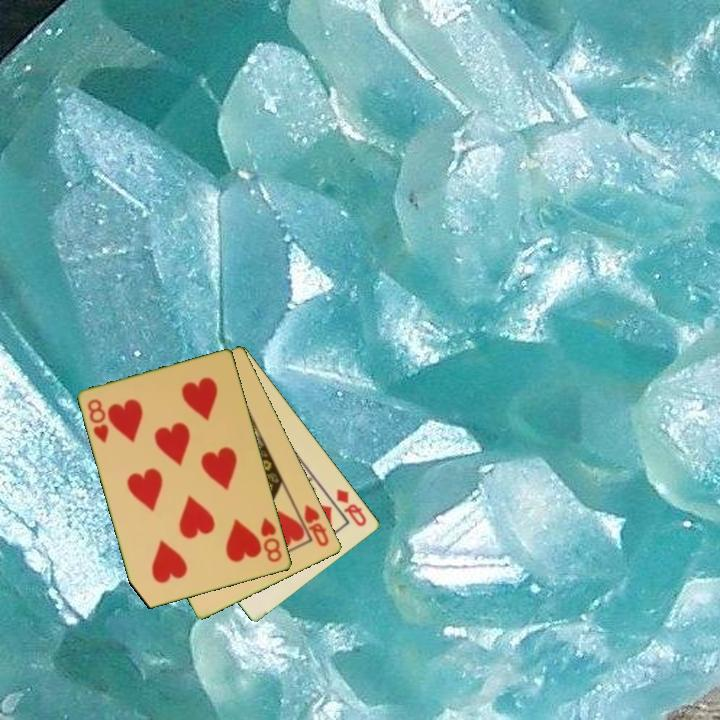8h: (257, 514, 285, 565), (84, 396, 112, 446)
Qd: (333, 485, 370, 530)
Qh: (293, 501, 332, 550)
